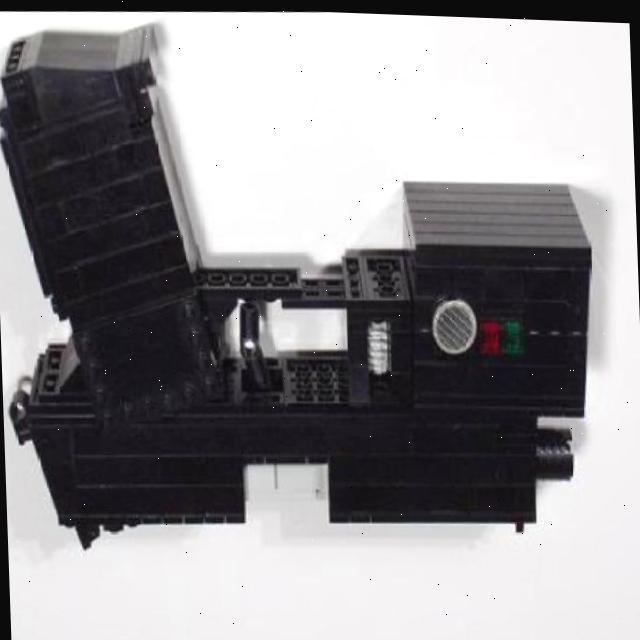gun: (0, 6, 601, 570)
